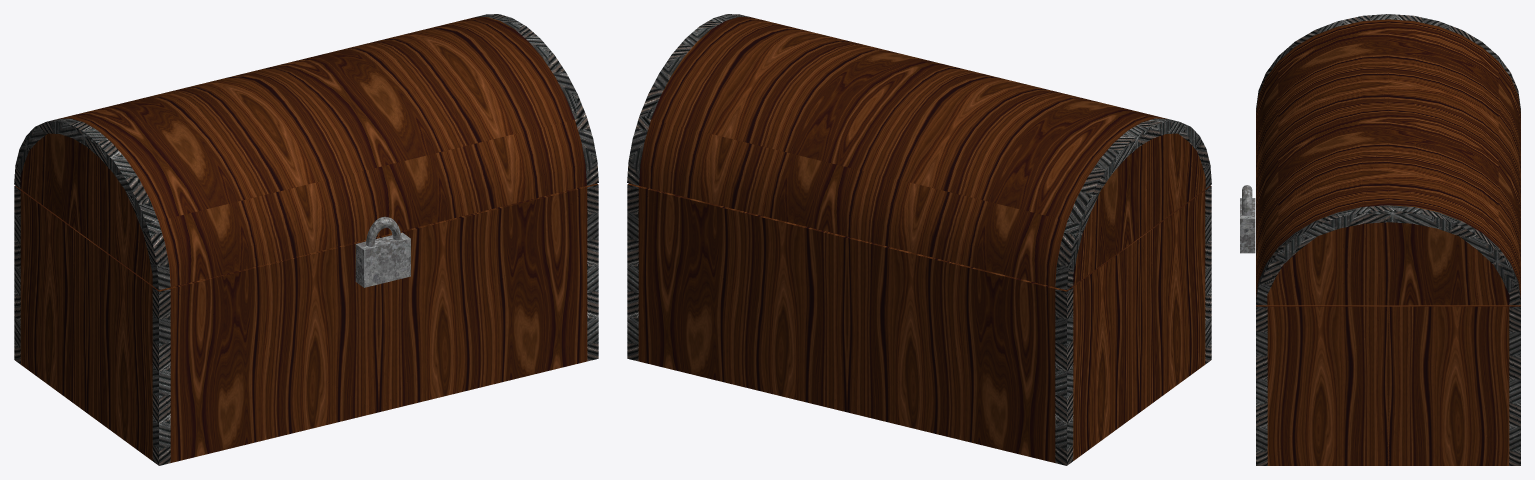
File: Schatztruhe.fbx
3 renders of one model, left to right at view 1: azimuth 30°, elevation 25°; view 2: azimuth 150°, elevation 25°; view 3: azimuth 270°, elevation 25°, orthographic. The views are drawn at different scales.
Visible parts, largest first — view 1: Circle, Cube; view 2: Cube, Circle; view 3: Circle, Cube.
Part boxes in pixels (x1=…): Circle: x1=14, y1=14, x2=598, y2=290; Cube: x1=14, y1=183, x2=598, y2=465; Cube: x1=627, y1=183, x2=1211, y2=465; Circle: x1=627, y1=14, x2=1211, y2=290; Circle: x1=1240, y1=14, x2=1520, y2=305; Cube: x1=1256, y1=305, x2=1520, y2=465.
Bounding box in the file's own units: 445 × 270 × 268.
